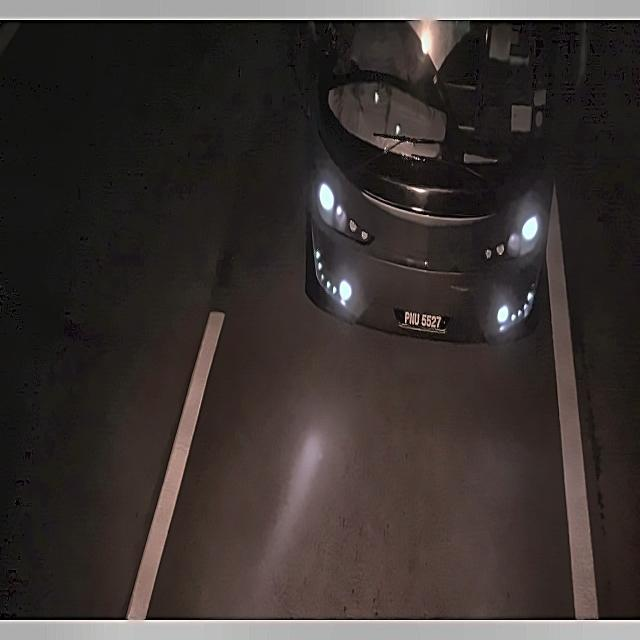car: (388, 294, 454, 340)
